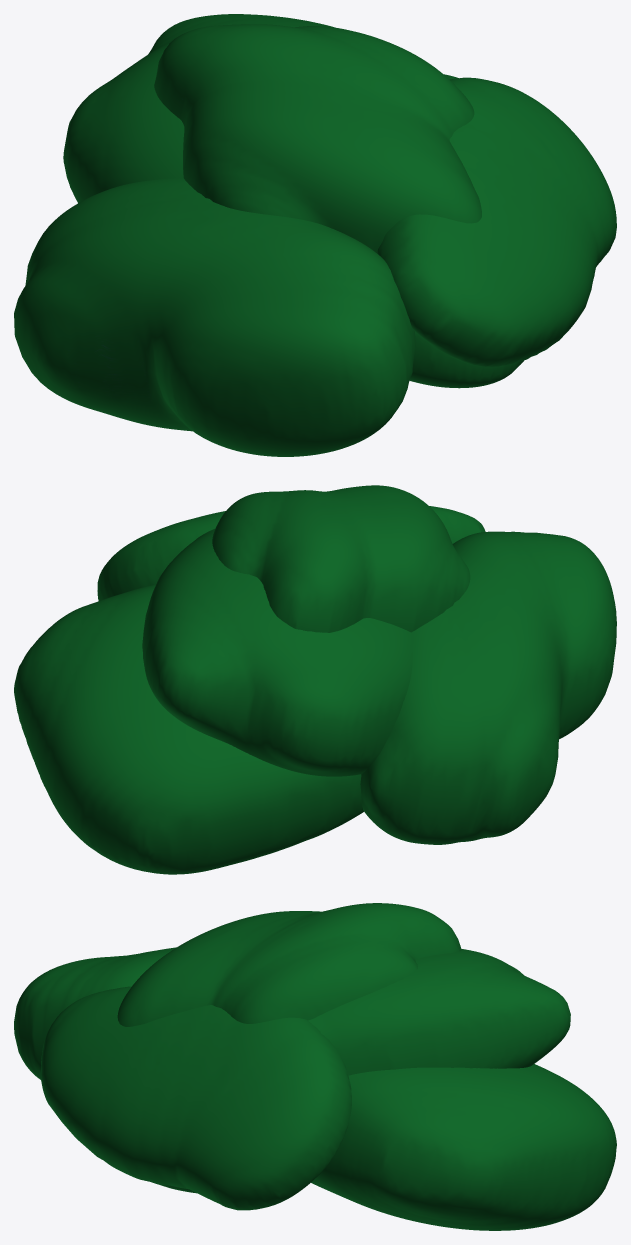
File: TreeHead.fbx
The picture shows the model from 3 angles, top to bottom: view 1: azimuth 30°, elevation 25°; view 2: azimuth 150°, elevation 25°; view 3: azimuth 270°, elevation 25°; orthographic projection. The views are drawn at different scales.
Parts seen in each view (by area): view 1: node_id32, node_id33, root, node_id57, node_id56; view 2: node_id32, node_id59, node_id57, node_id33, root; view 3: root, node_id59, node_id33, node_id57, node_id32.
Part boxes in pixels (bbox=[...]): node_id32: bbox=[14, 177, 415, 456]; node_id33: bbox=[154, 24, 481, 253]; root: bbox=[377, 77, 616, 366]; node_id57: bbox=[63, 14, 334, 203]; node_id56: bbox=[409, 331, 523, 388]; node_id32: bbox=[360, 531, 616, 844]; node_id59: bbox=[14, 584, 363, 874]; node_id57: bbox=[142, 529, 412, 776]; node_id33: bbox=[212, 485, 470, 632]; root: bbox=[97, 506, 485, 600]; root: bbox=[41, 986, 351, 1210]; node_id59: bbox=[311, 1064, 616, 1230]; node_id33: bbox=[117, 903, 461, 1026]; node_id57: bbox=[308, 949, 570, 1075]; node_id32: bbox=[14, 947, 176, 1079].
Bounding box in the file's own units: 0.6258 × 0.366 × 0.7298.
6 materials, 6 textured.
